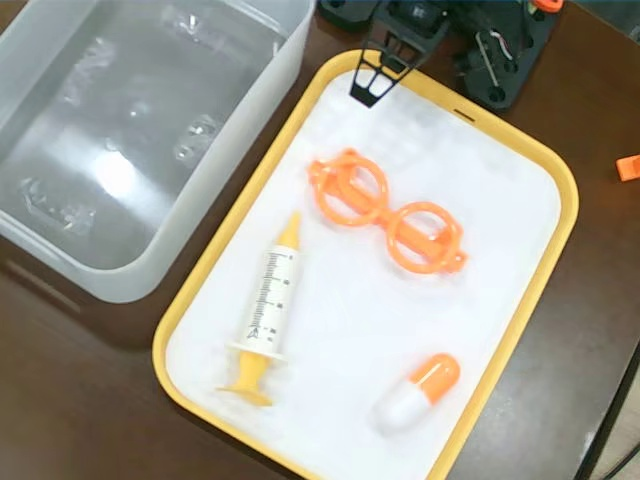pill: (369, 350, 460, 437)
syringe: (217, 206, 303, 409)
